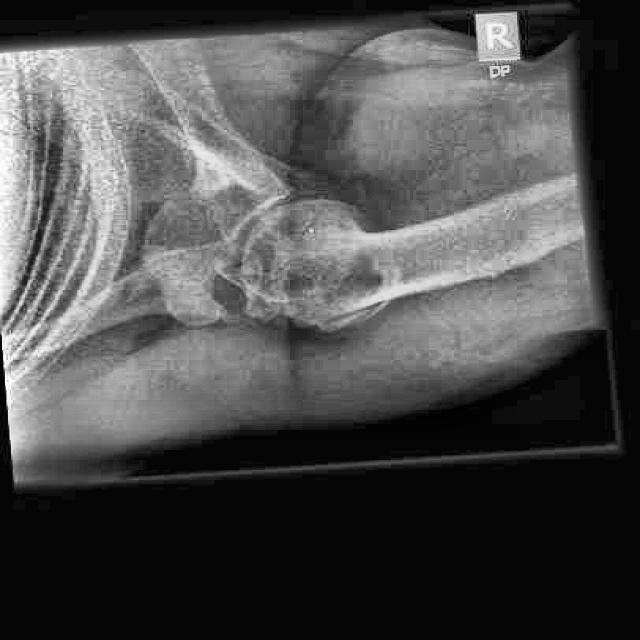shoulder fracture: (304, 284, 408, 355)
